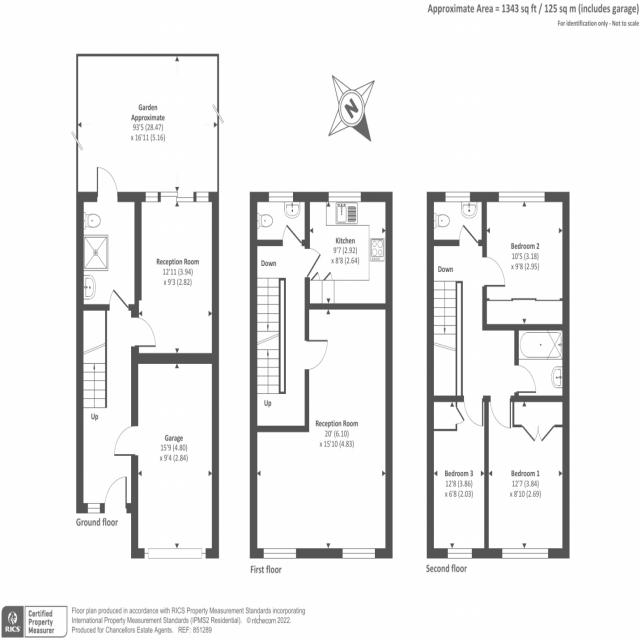DOOR: (103, 477, 127, 515), (132, 316, 156, 349), (114, 423, 137, 456), (305, 339, 327, 373), (484, 256, 506, 288), (515, 363, 537, 393), (462, 395, 483, 425), (304, 247, 321, 280), (281, 224, 304, 246), (107, 290, 131, 310), (458, 225, 481, 245)
ROOM: (249, 305, 392, 562), (112, 355, 219, 558), (131, 189, 218, 365), (484, 395, 570, 560), (482, 193, 569, 330), (305, 192, 394, 311), (427, 396, 489, 558)
WINDOW: (144, 189, 210, 205), (497, 190, 545, 202), (501, 548, 550, 559), (342, 547, 377, 561), (261, 547, 298, 559), (446, 547, 474, 561), (328, 192, 361, 203), (445, 191, 471, 204), (269, 191, 296, 201), (86, 503, 102, 514)
